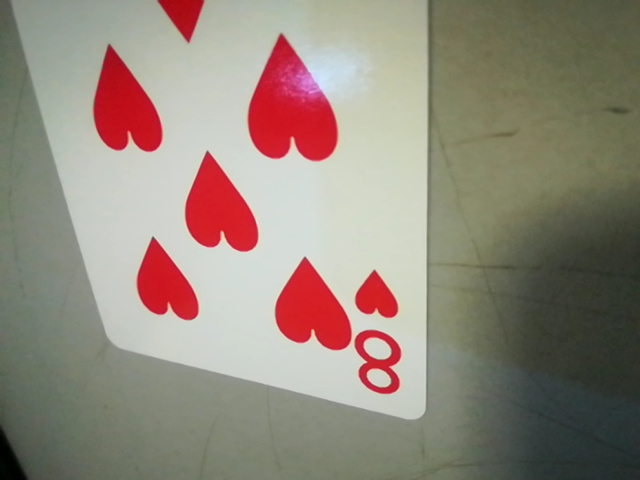hx 8: (343, 264, 418, 403)
